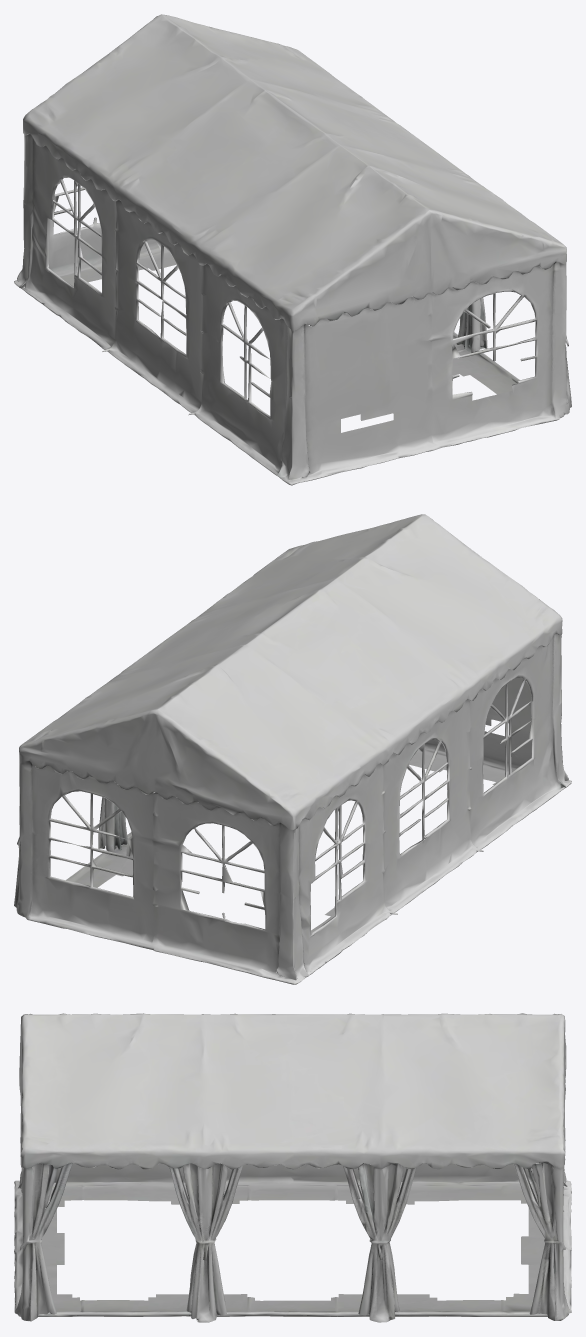
File: tent.glb
3 renders of one model, top to bottom at view 1: azimuth 30°, elevation 25°; view 2: azimuth 150°, elevation 25°; view 3: azimuth 270°, elevation 25°, orthographic.
Parts seen in each view (by area): view 1: tripo_node_33fb22fc-656b-4f57-9463-cc6dcad0a507; view 2: tripo_node_33fb22fc-656b-4f57-9463-cc6dcad0a507; view 3: tripo_node_33fb22fc-656b-4f57-9463-cc6dcad0a507.
Boxes of the visible parts, left/top/right/bottom form: tripo_node_33fb22fc-656b-4f57-9463-cc6dcad0a507: left=14, top=14, right=571, bottom=485; tripo_node_33fb22fc-656b-4f57-9463-cc6dcad0a507: left=14, top=514, right=571, bottom=984; tripo_node_33fb22fc-656b-4f57-9463-cc6dcad0a507: left=14, top=1013, right=571, bottom=1322.
Size of the model in its own units: 0.6147 by 0.4721 by 1.
Materials: 1 (1 with a texture image).
